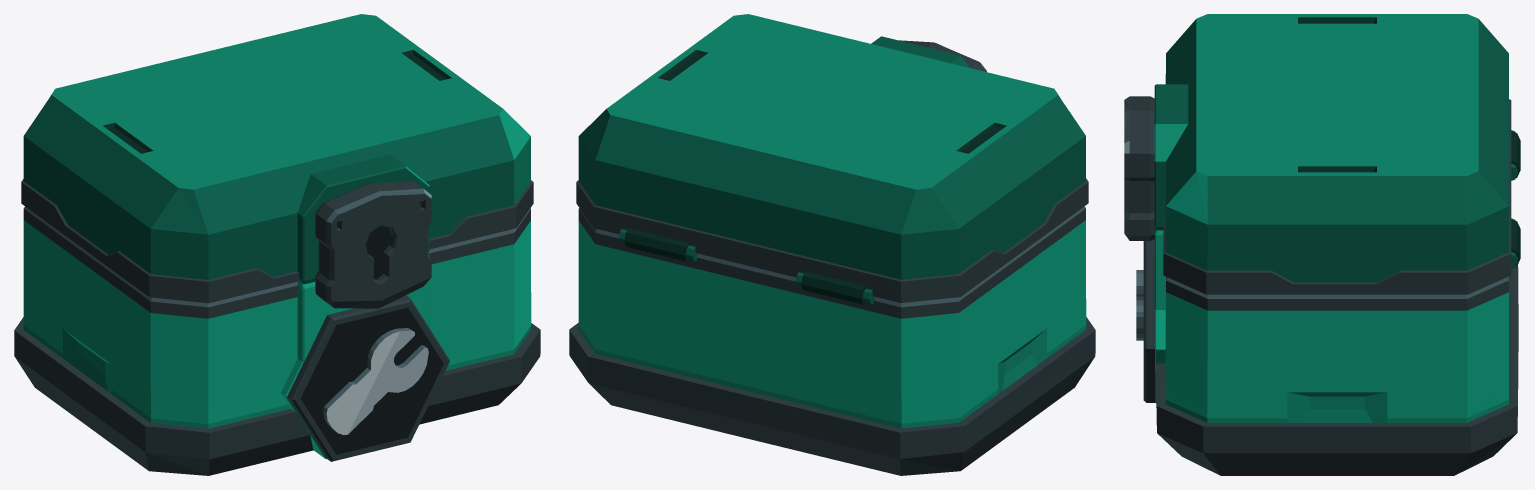
File: BOX_MATERAL_G1_02.fbx
The picture shows the model from 3 angles, left to right: view 1: azimuth 30°, elevation 25°; view 2: azimuth 150°, elevation 25°; view 3: azimuth 270°, elevation 25°; orthographic projection. The views are drawn at different scales.
Parts seen in each view (by area): view 1: Object003, BOX_MATERAL_G1_01, Object004; view 2: Object003, BOX_MATERAL_G1_01; view 3: Object003, BOX_MATERAL_G1_01, Object004.
Boxes of the visible parts, x1,y1,x2,y2 form: Object003: [21, 14, 533, 303]; BOX_MATERAL_G1_01: [14, 206, 540, 475]; Object004: [315, 181, 431, 308]; Object003: [576, 14, 1088, 304]; BOX_MATERAL_G1_01: [569, 206, 1095, 475]; Object003: [1154, 14, 1520, 294]; BOX_MATERAL_G1_01: [1136, 228, 1518, 475]; Object004: [1124, 96, 1154, 240].
Bounding box in the file's own units: 187 × 128 × 158.
1 material, 1 textured.
